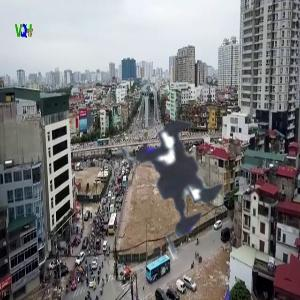drone: (67, 67, 288, 288)
